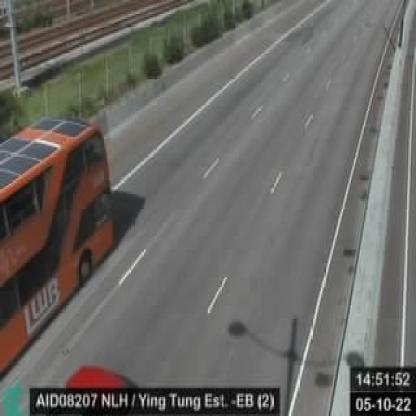Bus: (2, 118, 114, 379)
